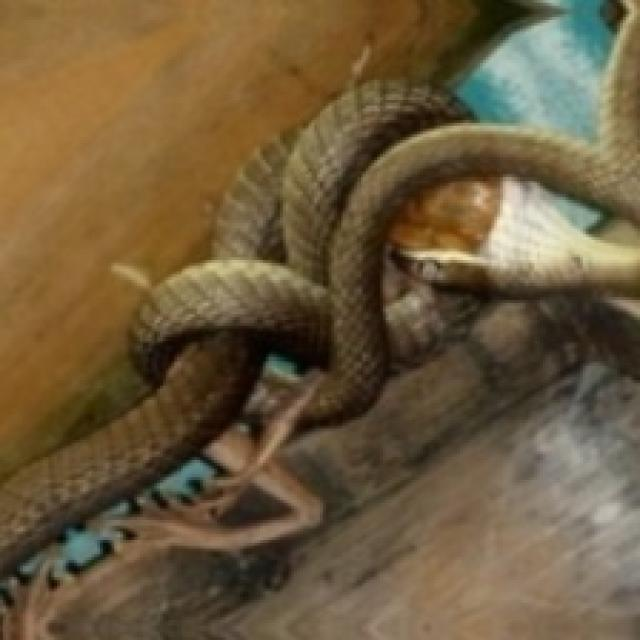paradise tree snake: (0, 0, 637, 566), (3, 263, 637, 637), (143, 471, 326, 554)
